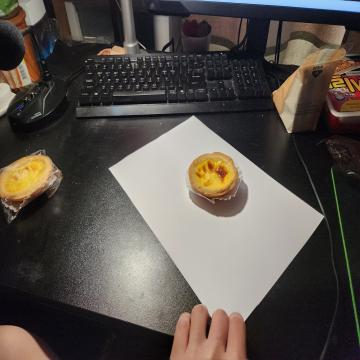EggTart: (189, 152, 239, 198)
